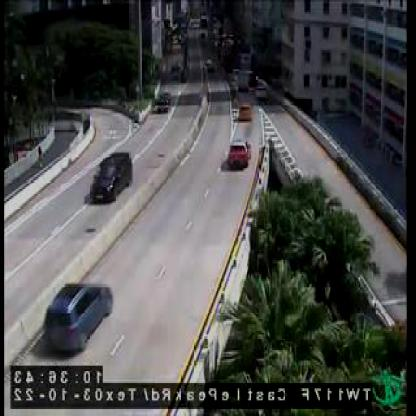Car: (44, 279, 113, 352), (90, 154, 132, 205), (226, 139, 251, 168), (153, 92, 173, 116), (240, 100, 254, 122), (257, 86, 268, 100)
